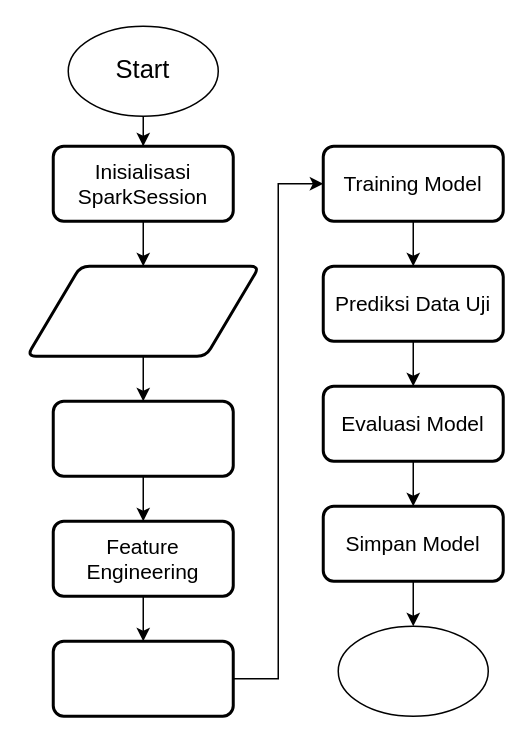
Image size: 531x744. Some labels were removed from this diagram. The centre of each missing label's shape, as x and y in pixels:
"End" goes at [412,670].
"Muat Dataset Pelatihan" goes at [142,310].
"Preprocessing Data" goes at [142,438].
"Split Data (Train dan Test)" goes at [142,678].
